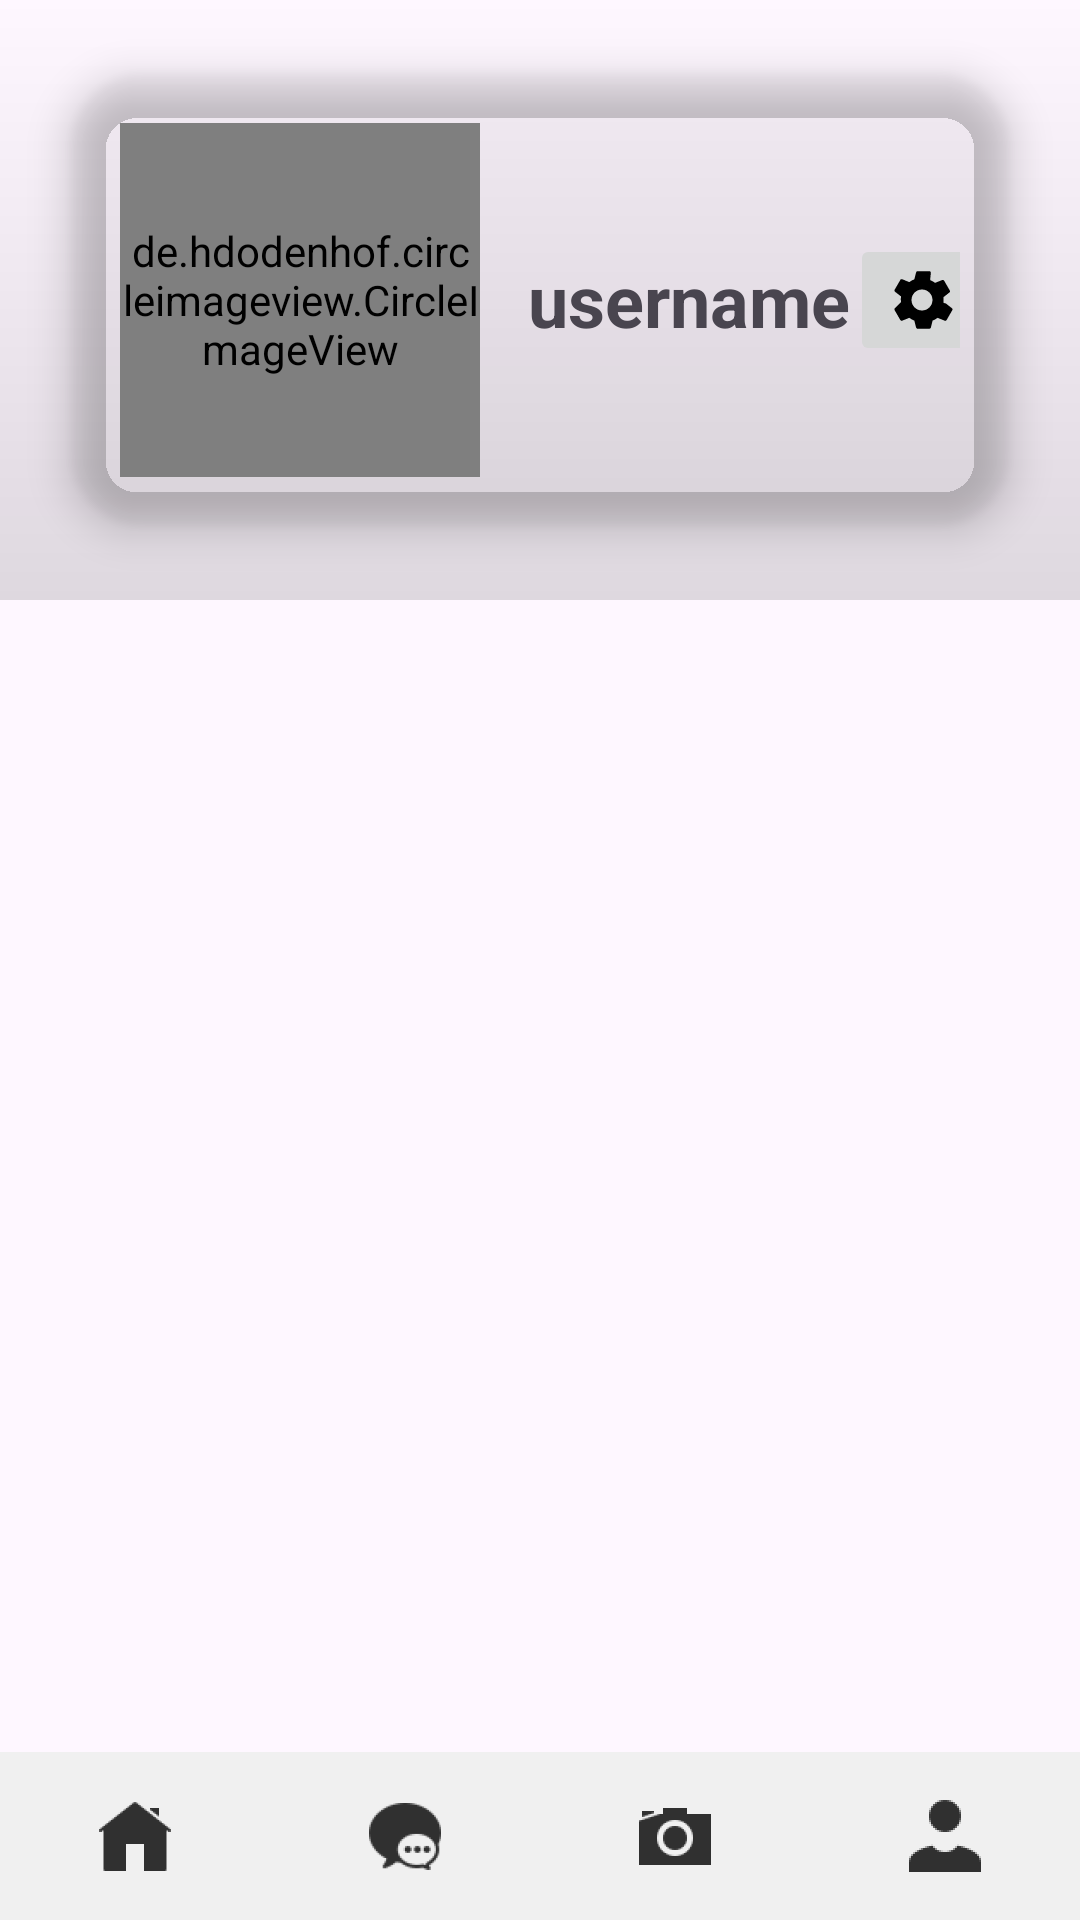

Icon click points for this 1080 x 1920 phone screenshot, format point (x, y):
homeicon: point (135, 1836)
messagesicon: point (405, 1836)
profileicon: point (945, 1836)
uploadicon: point (675, 1836)
